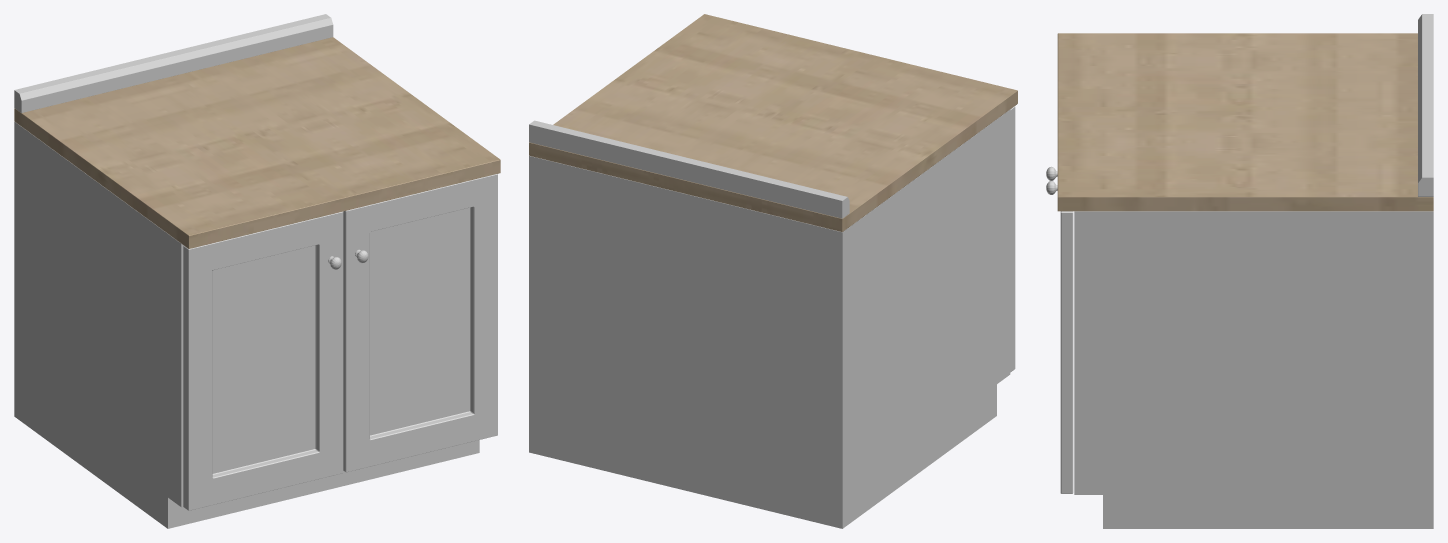
Rendered from sh-bsby-kitchen-lower-cabinet.glb.
3 renders of one model, left to right at view 1: azimuth 30°, elevation 25°; view 2: azimuth 150°, elevation 25°; view 3: azimuth 270°, elevation 25°, orthographic. The views are drawn at different scales.
Parts seen in each view (by area): view 1: Base-unit-Box-Right.001_Cube.014, Worktop-Right.001_Cube.008, Plane.000; view 2: Base-unit-Box-Right.001_Cube.014, Worktop-Right.001_Cube.008, Plane.000; view 3: Base-unit-Box-Right.001_Cube.014, Worktop-Right.001_Cube.008, Plane.000.
Part boxes in pixels (x1,y1,x2,y2): Base-unit-Box-Right.001_Cube.014: (14, 121, 497, 528); Worktop-Right.001_Cube.008: (14, 37, 500, 248); Plane.000: (14, 14, 333, 112); Base-unit-Box-Right.001_Cube.014: (529, 106, 1015, 528); Worktop-Right.001_Cube.008: (529, 14, 1017, 231); Plane.000: (529, 120, 849, 218); Base-unit-Box-Right.001_Cube.014: (1060, 211, 1433, 528); Worktop-Right.001_Cube.008: (1057, 33, 1433, 211); Plane.000: (1418, 14, 1433, 196).
Bounding box in the file's own units: 1 × 1 × 1.
Materials: 3 (1 with a texture image).
